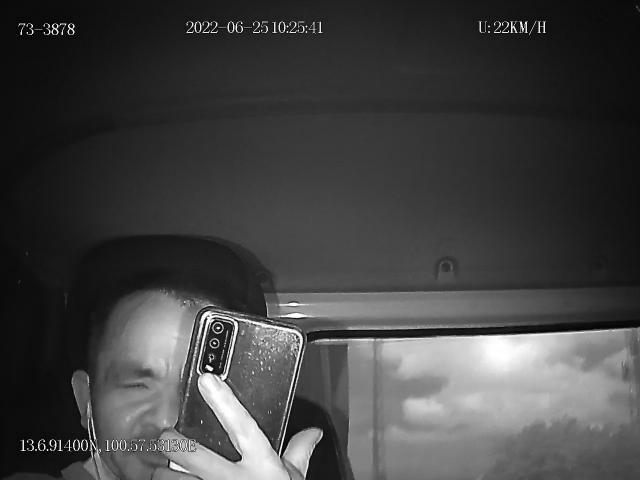Phone: (170, 308, 306, 480)
